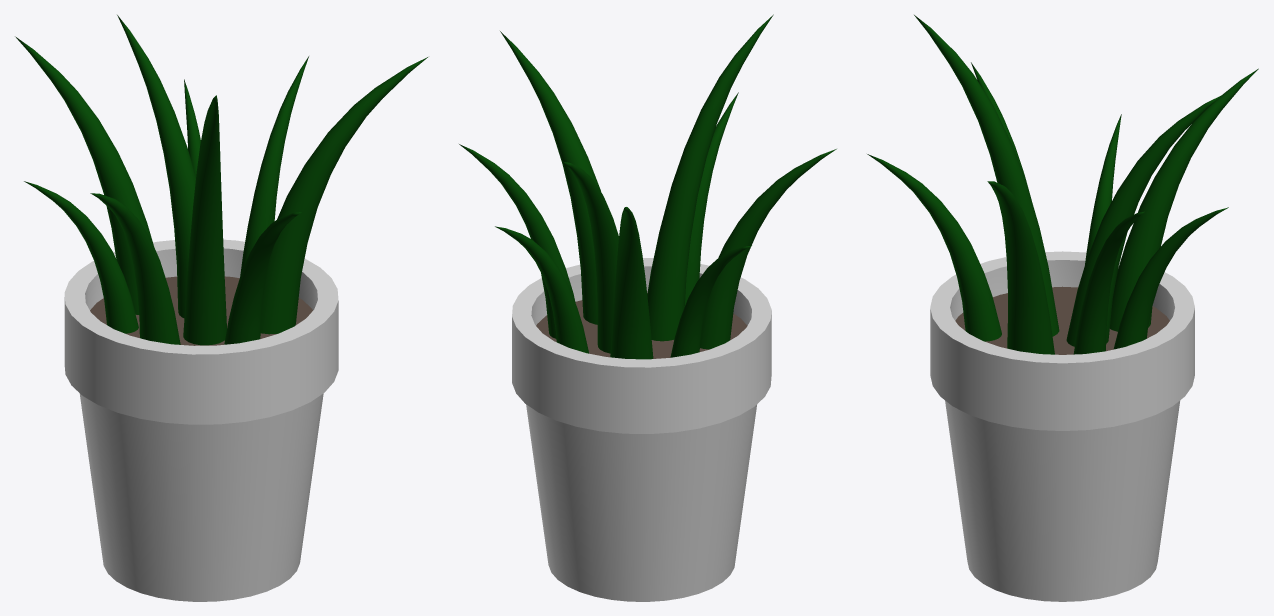
File: Plante6_2.fbx
3 views of the same model, side by side, from view 1: azimuth 30°, elevation 25°; view 2: azimuth 150°, elevation 25°; view 3: azimuth 270°, elevation 25° (orthographic). The views are drawn at different scales.
Visible parts, largest first — view 1: pCylinder717, pCone5, pCone7, pCone4, pCone9, pCone2, pCone3, pCone1, pCone8, pCylinder721, pCone6; view 2: pCylinder717, pCone7, pCone5, pCone2, pCone4, pCone9, pCone6, pCone8, pCone3, pCone1, pCylinder721; view 3: pCylinder717, pCone4, pCone5, pCone7, pCone1, pCone9, pCone8, pCone6, pCylinder721, pCone3.
Boxes of the visible parts, x1,y1,x2,y2 form: pCylinder717: (64,239,338,601); pCone5: (260,57,427,334); pCone7: (183,95,226,345); pCone4: (15,36,153,314); pCone9: (117,15,195,317); pCone2: (90,193,180,344); pCone3: (24,181,138,333); pCone1: (224,212,301,344); pCone8: (240,56,308,275); pCylinder721: (90,276,312,345); pCone6: (184,79,200,176); pCylinder717: (512,258,771,601); pCone7: (647,14,773,341); pCone5: (500,31,600,324); pCone2: (700,149,836,349); pCone4: (610,207,653,359); pCone9: (563,161,618,353); pCone6: (495,226,589,353); pCone8: (459,144,575,338); pCone3: (670,245,751,357); pCone1: (684,92,738,306); pCylinder721: (536,292,747,358); pCylinder717: (930,251,1194,601); pCone4: (1110,68,1258,331); pCone5: (987,181,1054,354); pCone7: (914,15,1059,336); pCone1: (867,154,1001,341); pCone9: (1066,94,1223,346); pCone8: (1073,211,1144,354); pCone6: (1113,207,1228,349); pCylinder721: (955,286,1169,354); pCone3: (1085,114,1121,264).
Size of the model in its own units: 16.41 by 24.2 by 16.64.
